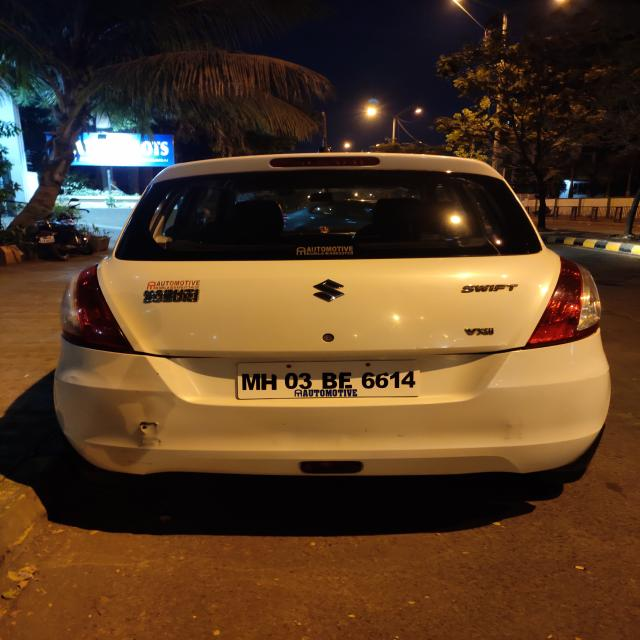Number-Plate: (236, 357, 427, 401)
